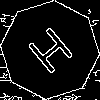H: (25, 25, 82, 84)
